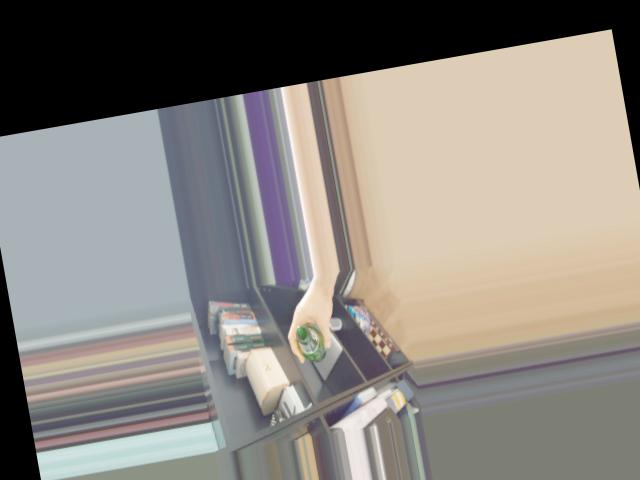beer: (295, 320, 329, 364)
